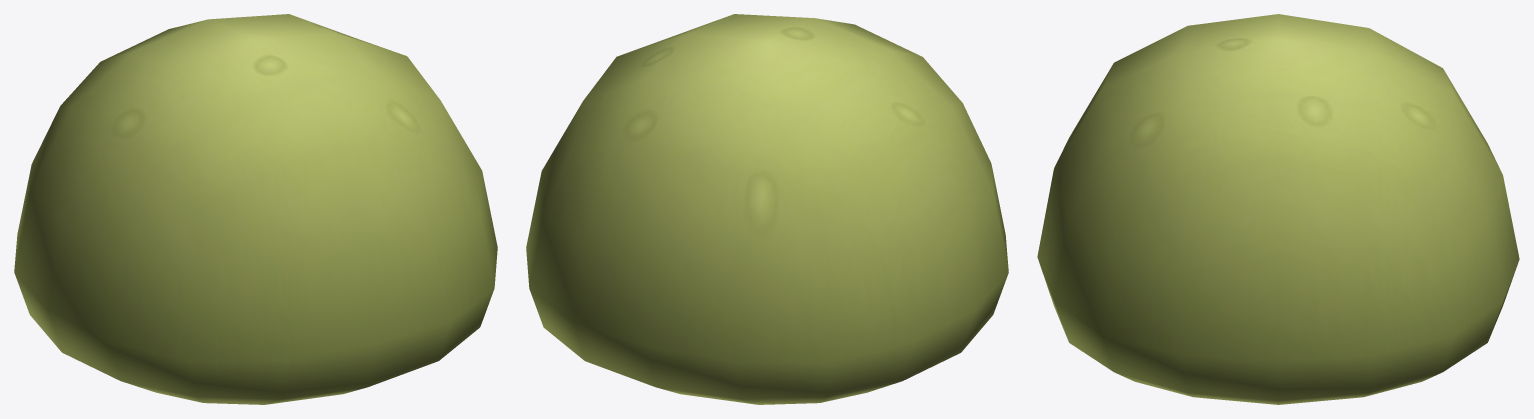
Rendered from cube.009_material.059_0_lev1.glb.
3 views of the same model, side by side, from view 1: azimuth 30°, elevation 25°; view 2: azimuth 150°, elevation 25°; view 3: azimuth 270°, elevation 25° (orthographic).
Parts seen in each view (by area): view 1: cube.009_material.059_0_lev1; view 2: cube.009_material.059_0_lev1; view 3: cube.009_material.059_0_lev1.
Boxes of the visible parts, x1,y1,x2,y2 form: cube.009_material.059_0_lev1: (14,14,497,404); cube.009_material.059_0_lev1: (526,14,1008,404); cube.009_material.059_0_lev1: (1037,14,1519,404).
Size of the model in its own units: 0.1471 by 0.1048 by 0.1471.
1 material, 1 textured.
